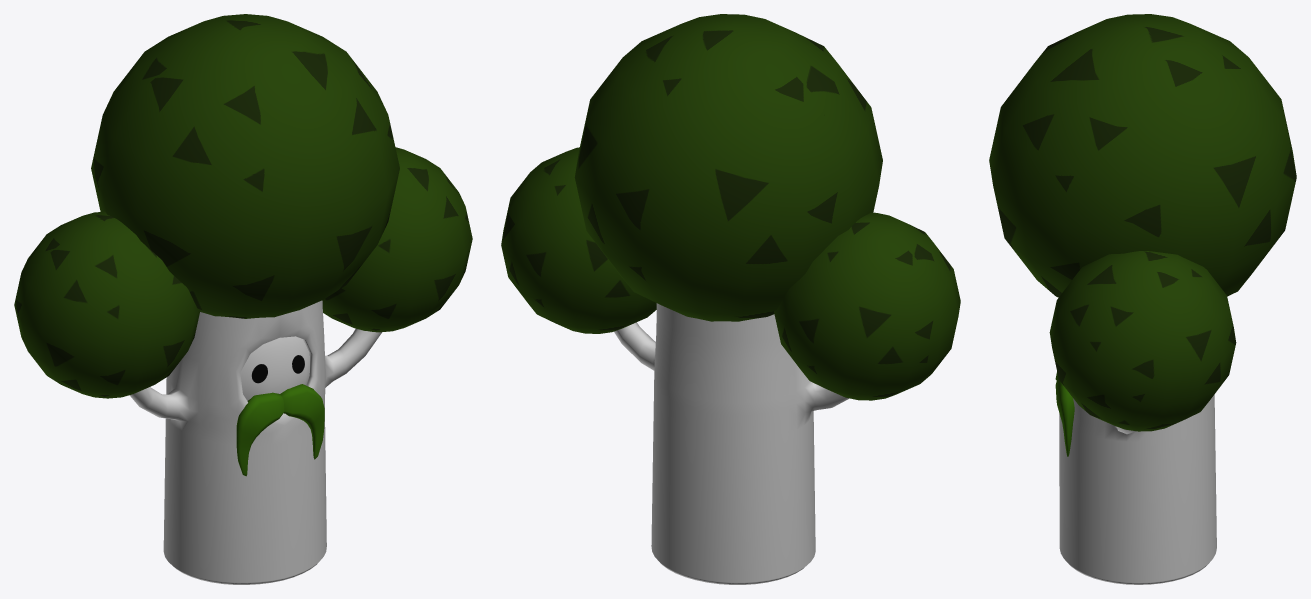
Rendered from WoodleWiseLow.fbx.
3 views of the same model, side by side, from view 1: azimuth 30°, elevation 25°; view 2: azimuth 150°, elevation 25°; view 3: azimuth 270°, elevation 25° (orthographic).
Parts seen in each view (by area): view 1: WoodleOld4; view 2: WoodleOld4; view 3: WoodleOld4.
Part boxes in pixels (box(x1,y1,x2,y2)): WoodleOld4: box(14, 14, 472, 584); WoodleOld4: box(501, 14, 960, 584); WoodleOld4: box(989, 14, 1296, 584).
Bounding box in the file's own units: 70.74 × 83.6 × 43.45.
